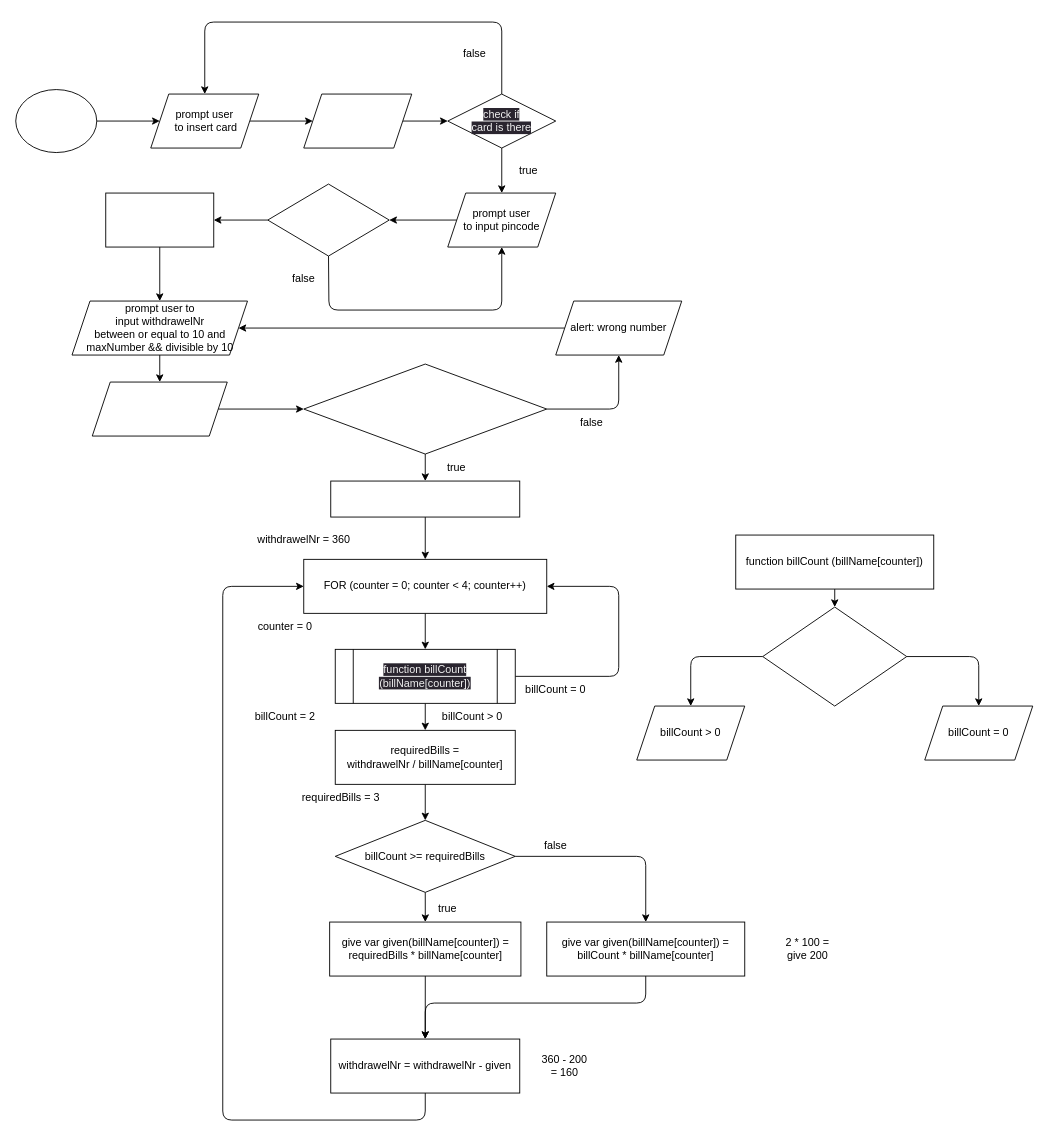
This 1049x1143 diagram has some shape labels left out. The centre of each missing label's shape, as x and y in pixels:
"array billName [ 100, 50, 20, 10]" belongs at (425,498).
"check how many bills of billName[counter] are left in the ATM" belongs at (834,656).
"check if ( withdrawelNr > Max || withdrawelNr < 10 ) && withdrawelNr % 10 = 0" belongs at (425,408).
"check if pincode is correct" belongs at (328,219).
"check maxNumber" belongs at (159,219).
"start" belongs at (56,121).
"user: input card" belongs at (357,120).
"user: input withdrawelNr" belongs at (159,408).
